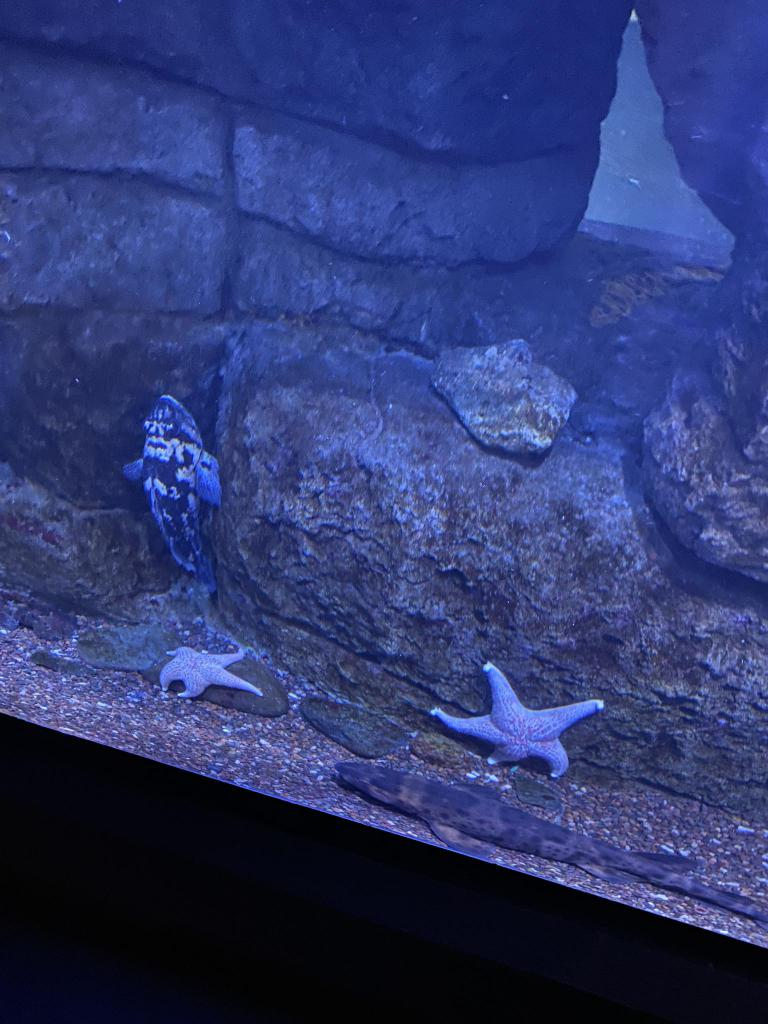fish: (126, 394, 220, 576)
shark: (331, 760, 767, 924)
starfish: (430, 664, 602, 778), (161, 647, 261, 699)
